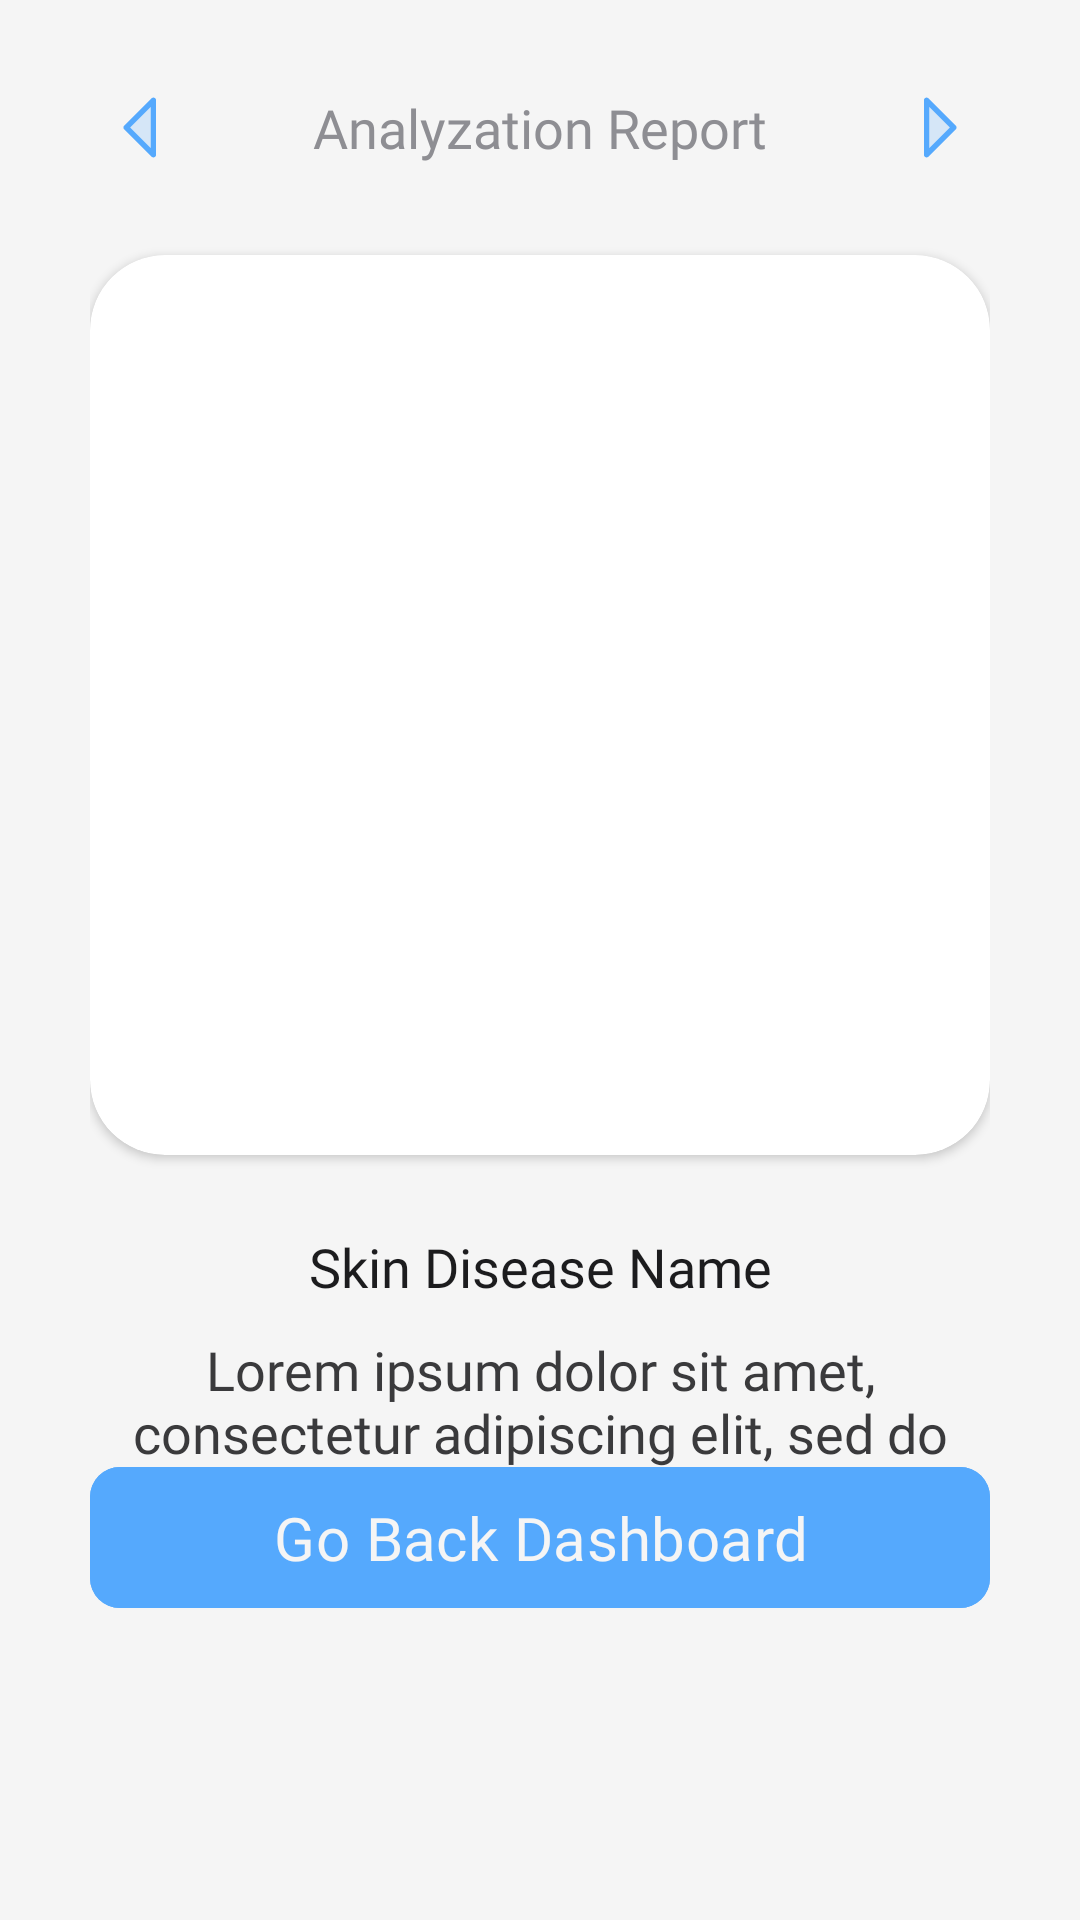

Where to tap for icons on this 1080*1920 app screen, as [x,y]:
arrow left: [139,127]
arrow right: [940,127]
